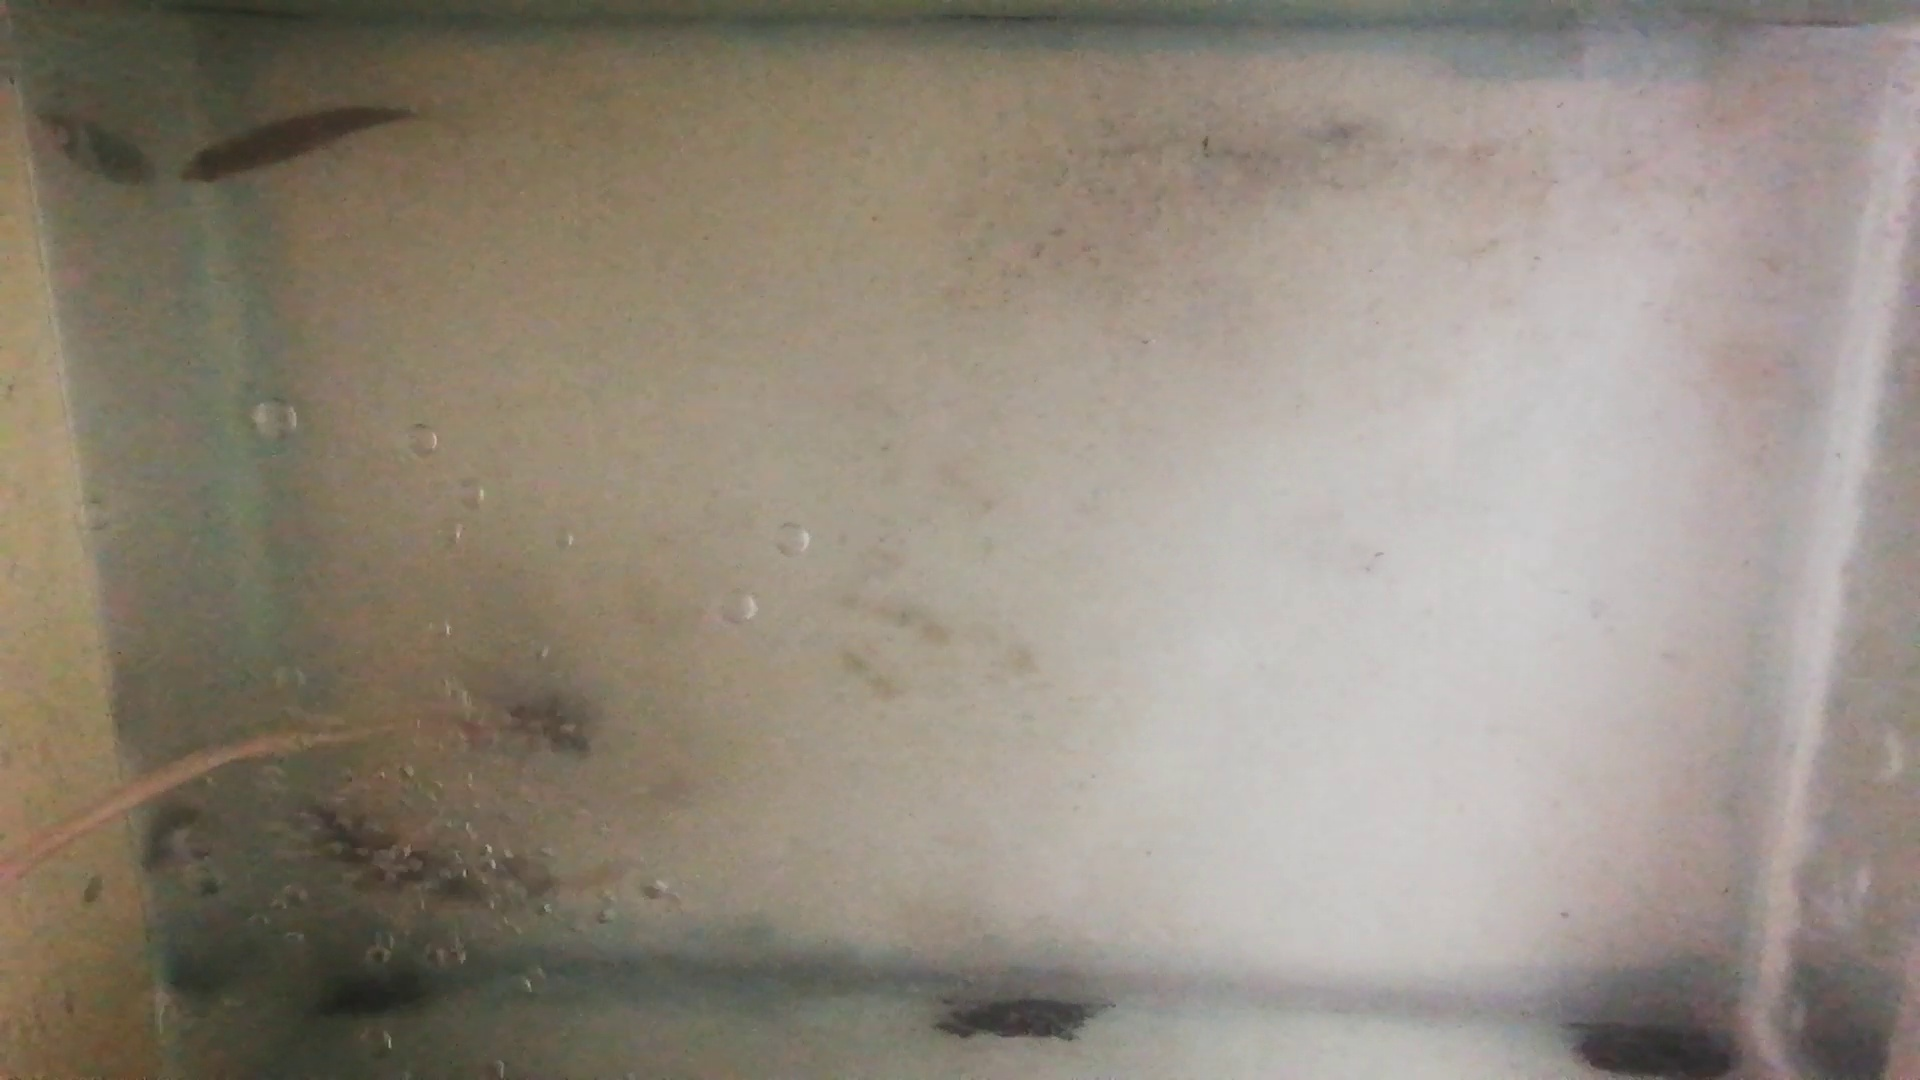fish: (303, 800, 495, 911), (179, 103, 407, 186)
